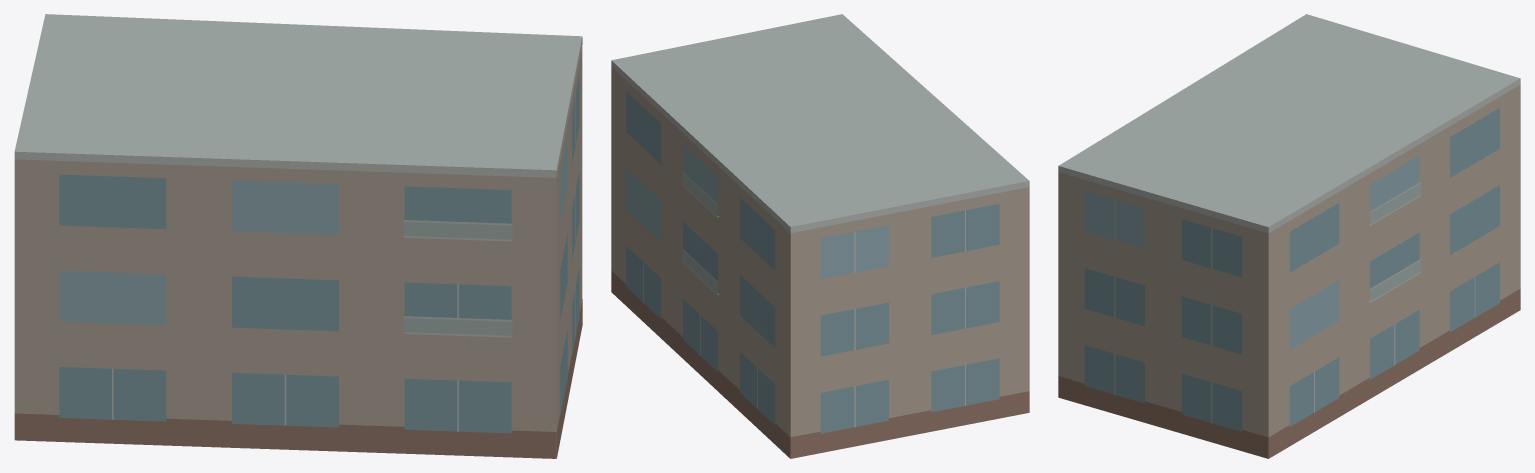
Rendered from survey-upis-33046230.glb.
3 renders of one model, left to right at view 1: azimuth 30°, elevation 25°; view 2: azimuth 150°, elevation 25°; view 3: azimuth 270°, elevation 25°, orthographic. The views are drawn at different scales.
Parts seen in each view (by area): view 1: survey-upis-33046230.tmp; view 2: survey-upis-33046230.tmp; view 3: survey-upis-33046230.tmp.
Part boxes in pixels (bbox=[...]): survey-upis-33046230.tmp: bbox=[14, 14, 582, 458]; survey-upis-33046230.tmp: bbox=[611, 14, 1029, 458]; survey-upis-33046230.tmp: bbox=[1058, 14, 1520, 458].
Bounding box in the file's own units: 18.07 × 9.15 × 16.56.
